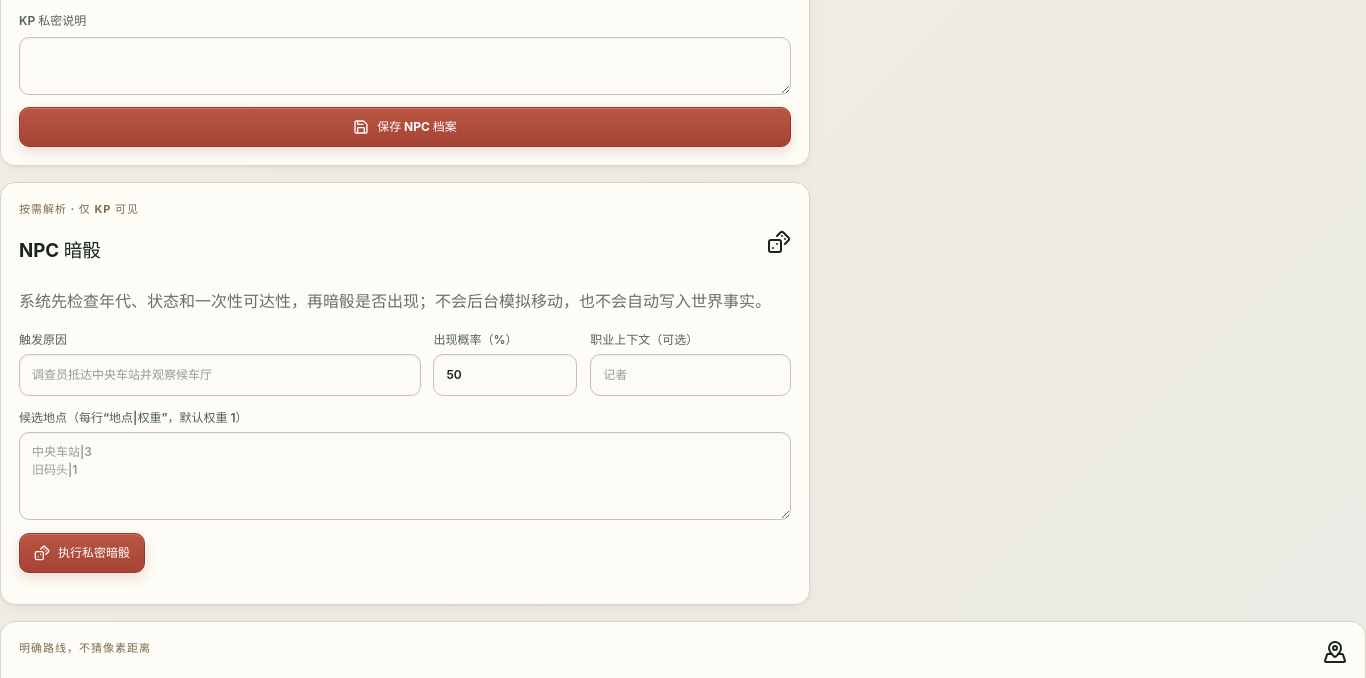
it: NpcWorkspace › runs a KP-private appearance roll from explicit destinations
(page scrolled)
Type "调查员抵达车站" into the field with placeholder "调查员抵达中央车站并观察候车厅".
click(220, 375); type("调查员抵达车站")  # box [19,354,421,396]
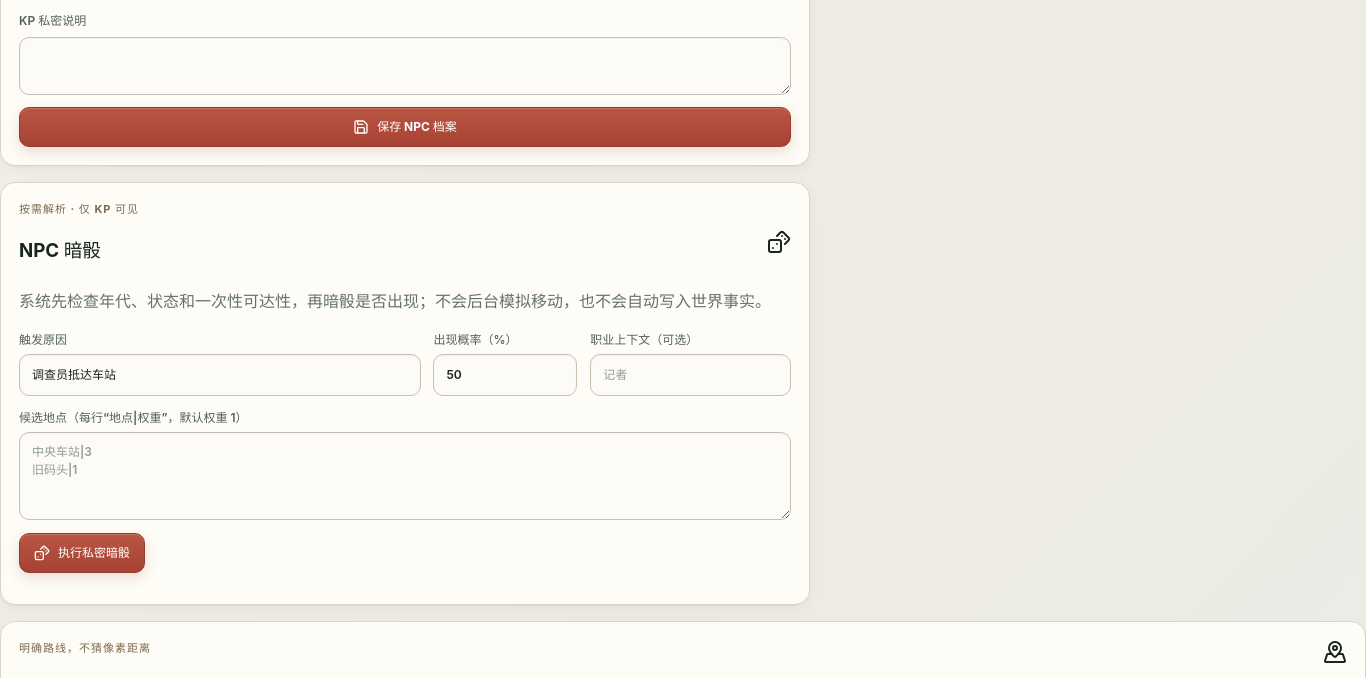
Replace the text in the number field labelled "出现概率（%）" with "60" at (505, 375), box [433,354,577,396]
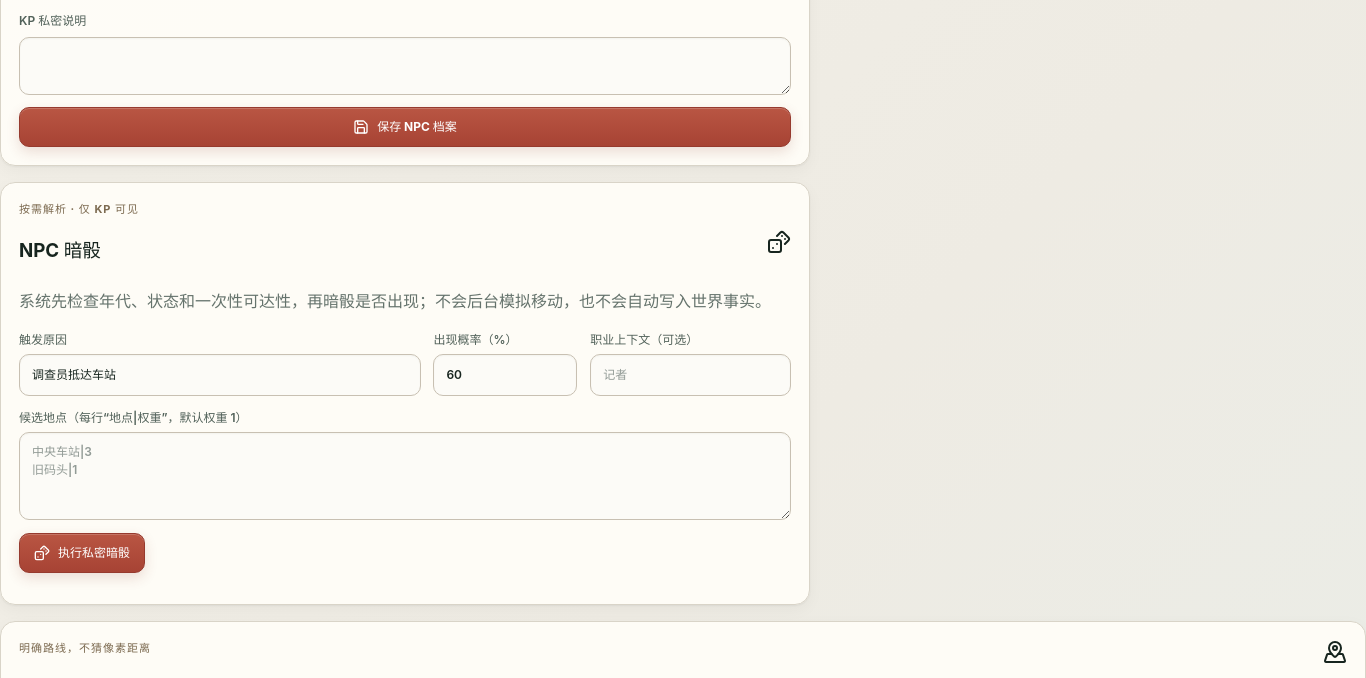
Type "车站|2" into the text box labelled "候选地点（每行“地点|权重”，默认权重 1）".
click(405, 476); type("车站|2")  # box [19,432,791,520]
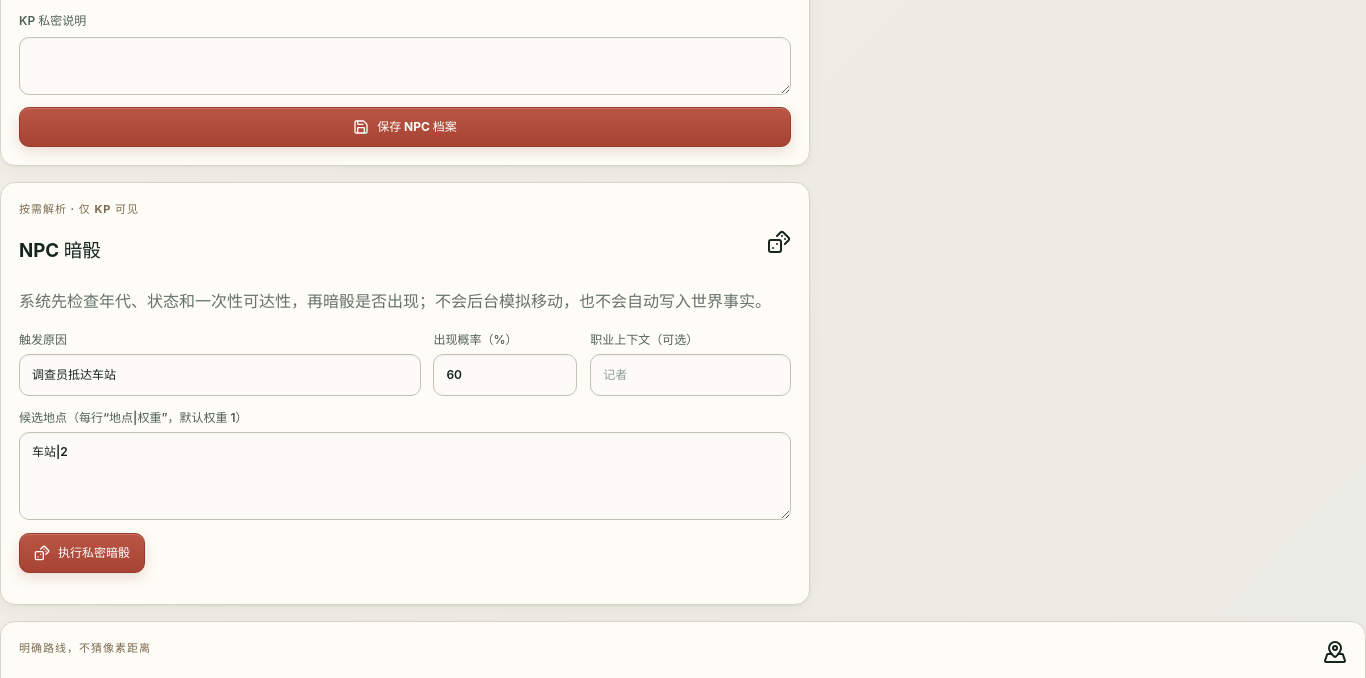
Click the button "执行私密暗骰".
click(82, 553)  # box [19,533,145,573]
(page scrolled)
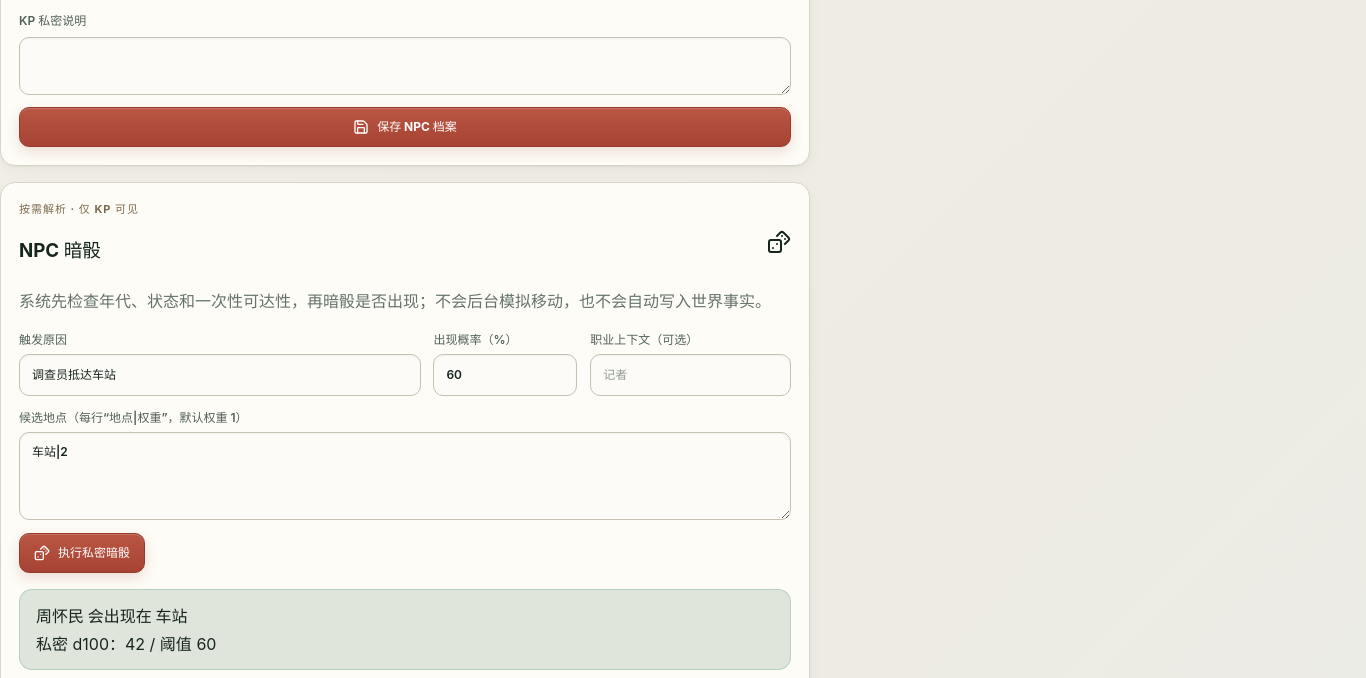
Expected: the text "周怀民 会出现在 车站" is shown, [36,606,188,626]
